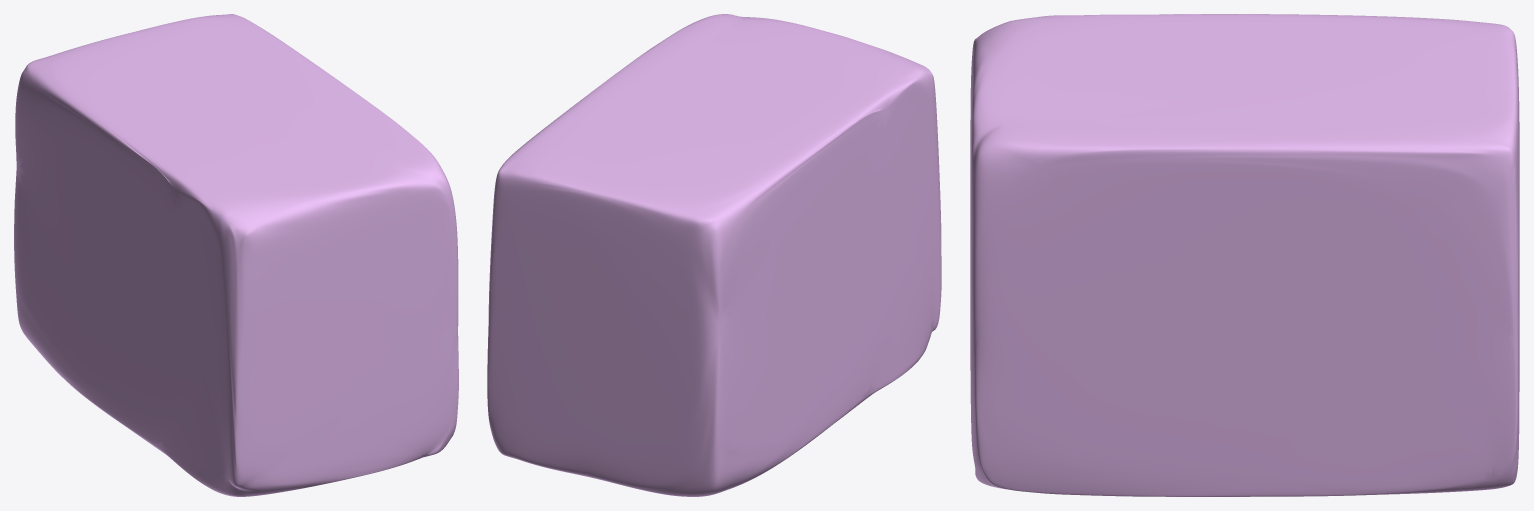
The picture shows the model from 3 angles, left to right: view 1: azimuth 30°, elevation 25°; view 2: azimuth 150°, elevation 25°; view 3: azimuth 270°, elevation 25°; orthographic projection. The views are drawn at different scales.
Visible parts, largest first — view 1: FN_CF; view 2: FN_CF; view 3: FN_CF.
Part boxes in pixels (left/top/right/bottom): FN_CF: left=14, top=14, right=458, bottom=496; FN_CF: left=487, top=14, right=941, bottom=496; FN_CF: left=970, top=14, right=1519, bottom=496.
Bounding box in the file's own units: 10 × 12 × 16.99.
